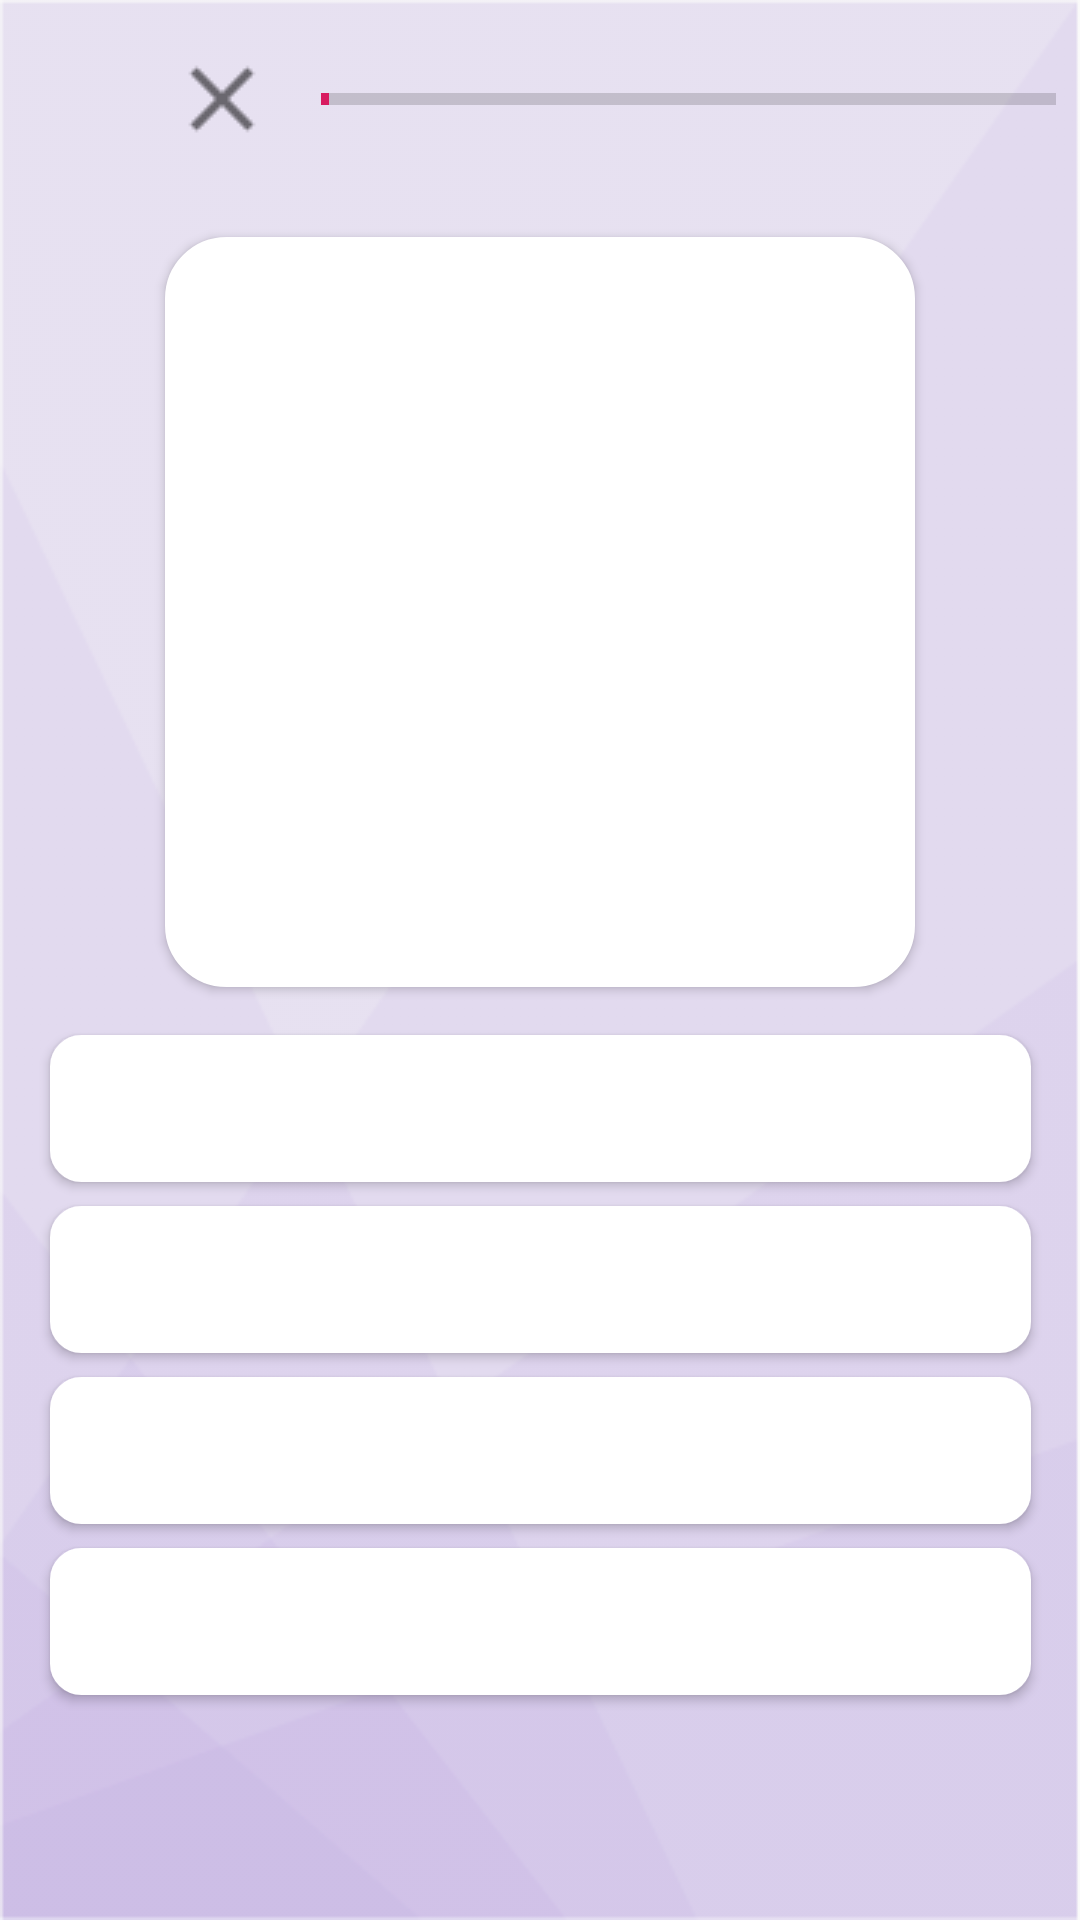

Icon bounding boxes for this 1080w x 1920h phone screenshot, format (x1, y1, x2, y2):
close fragment card: (190, 67, 254, 131)
